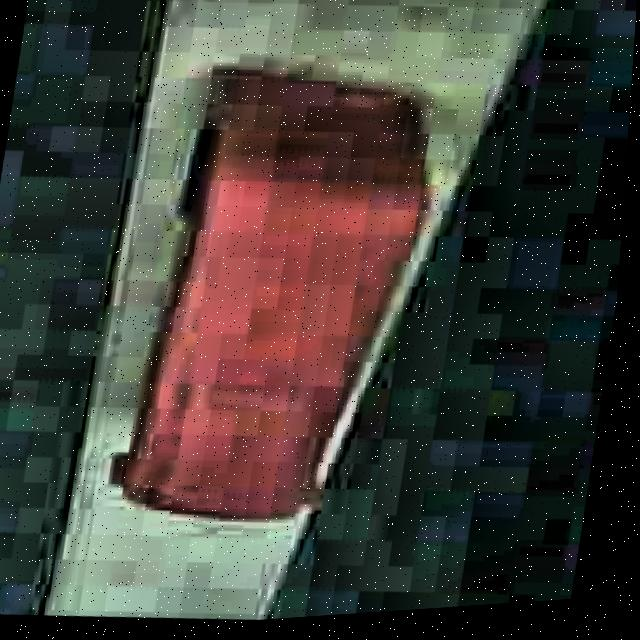bus: (100, 40, 455, 547)
